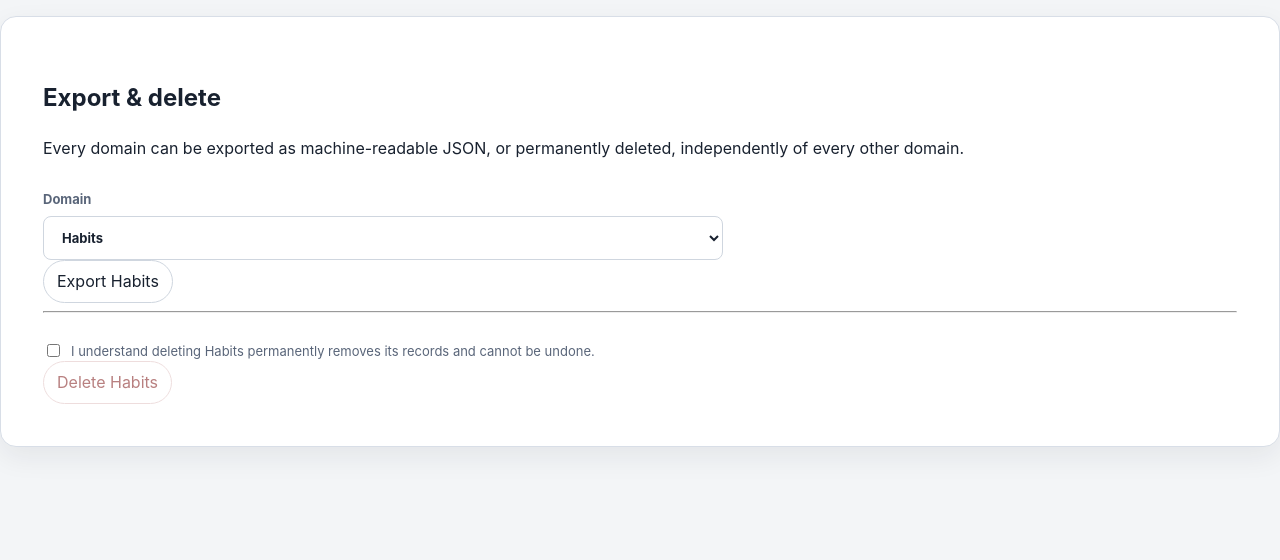
Test: ExportDeletePanel › deletes a domain and shows its completed status
Click the checkbox at (54, 351), box [47, 344, 60, 357]
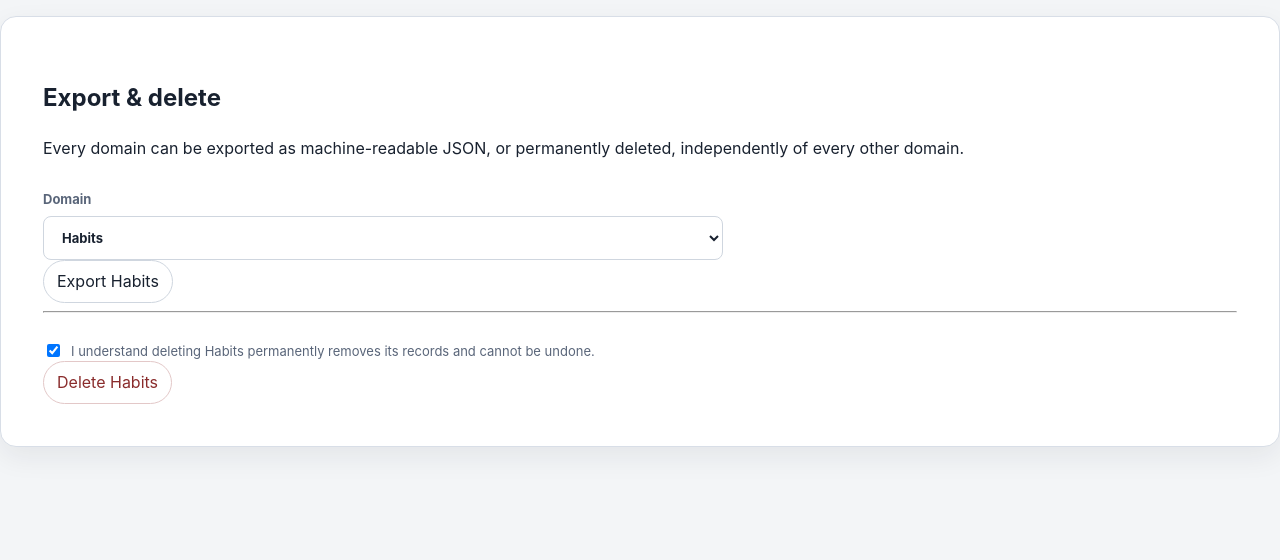
Click the button "Delete Habits" at (108, 382), box [43, 361, 172, 404]
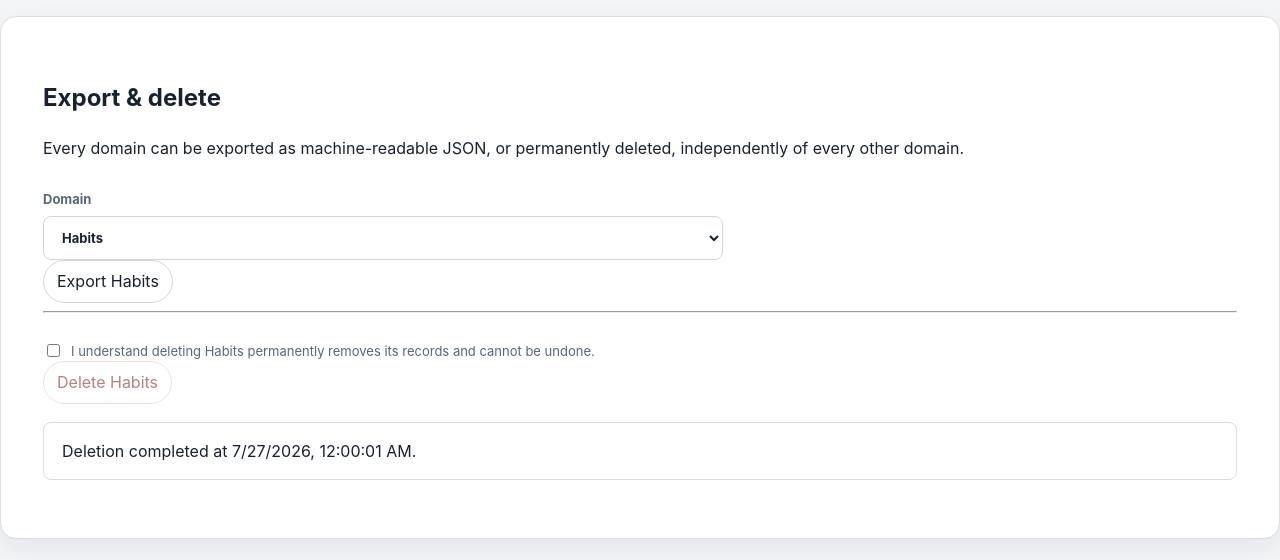
Result: the text "Deletion completed at 7/27/2026, 12:00:01 AM." is shown at [43, 422, 1237, 480]
